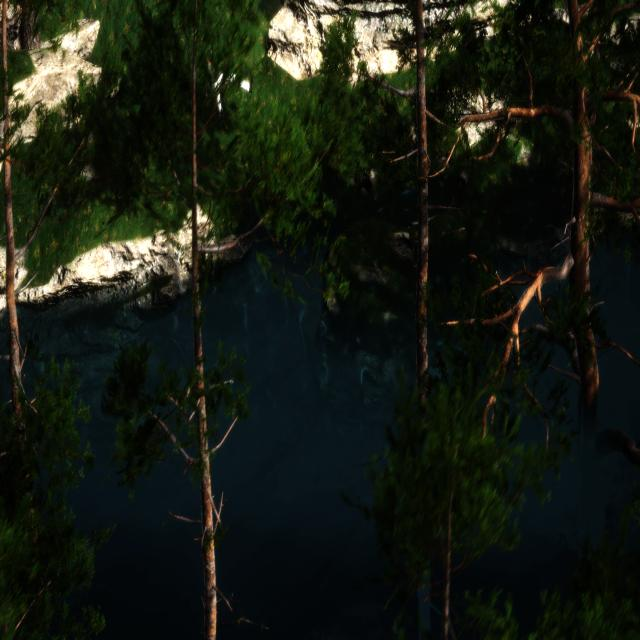Human: (198, 37, 252, 124)
